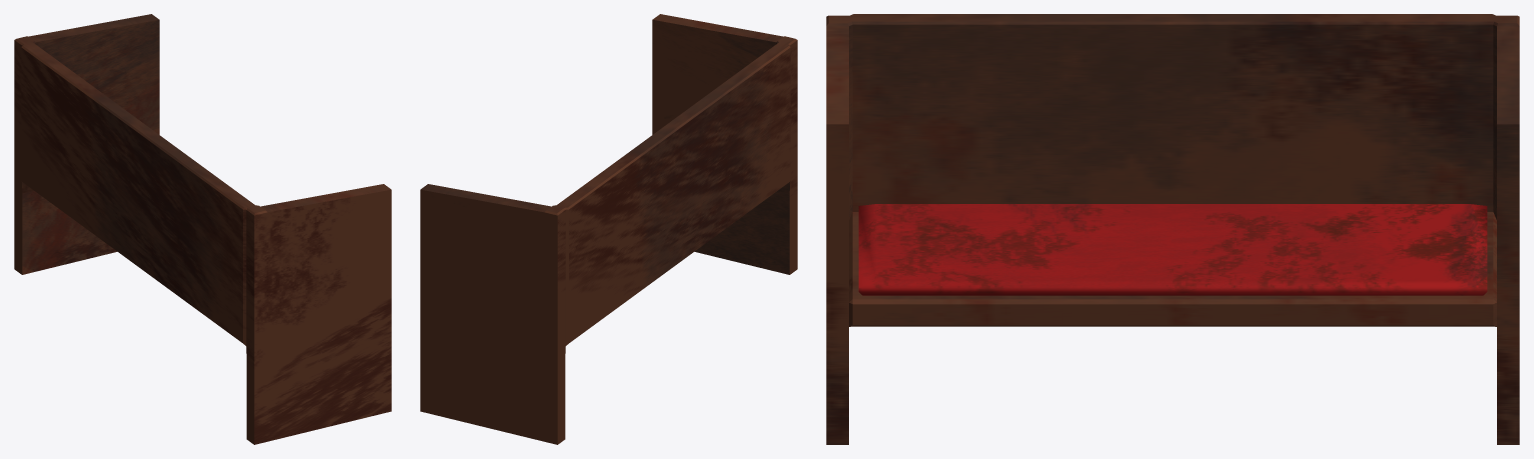
The model's file is Church_pew.obj.
3 renders of one model, left to right at view 1: azimuth 30°, elevation 25°; view 2: azimuth 150°, elevation 25°; view 3: azimuth 270°, elevation 25°, orthographic. The views are drawn at different scales.
Parts seen in each view (by area): view 1: pCube9_initialShadingGroup; view 2: pCube9_initialShadingGroup; view 3: pCube9_initialShadingGroup.
Boxes of the visible parts, x1,y1,x2,y2 form: pCube9_initialShadingGroup: [14, 14, 391, 444]; pCube9_initialShadingGroup: [420, 14, 797, 444]; pCube9_initialShadingGroup: [826, 14, 1519, 444].
Size of the model in its own units: 2.84 by 4.41 by 8.3.
1 material, 1 textured.
